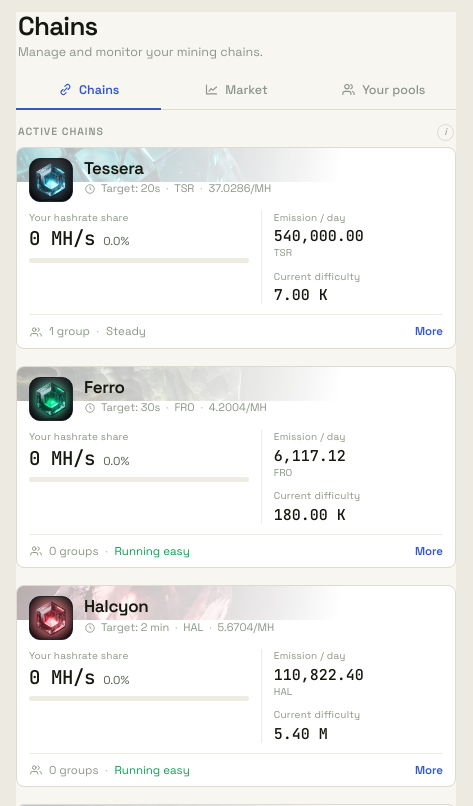
Test: ChainsView › opens the found-a-pool form and reflects the chosen chain
Click the tab with class "segtab" showing "Your pools". click: [383, 90]
box: [311,71,456,110]
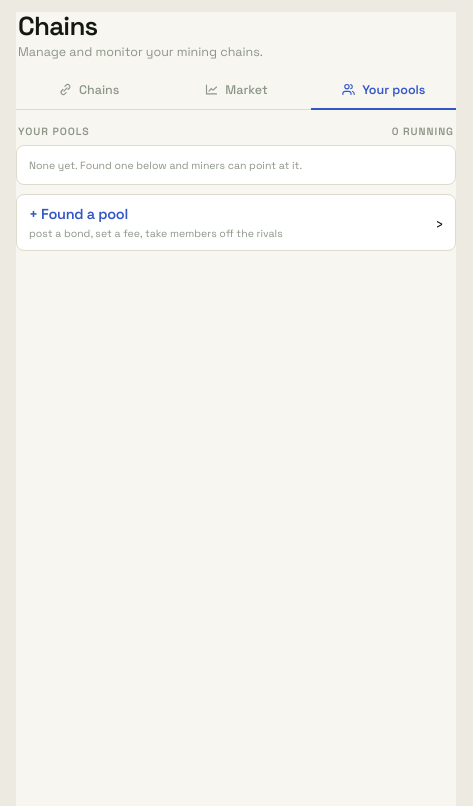
Click the button. click: [78, 214]
box: [17,195,455,250]
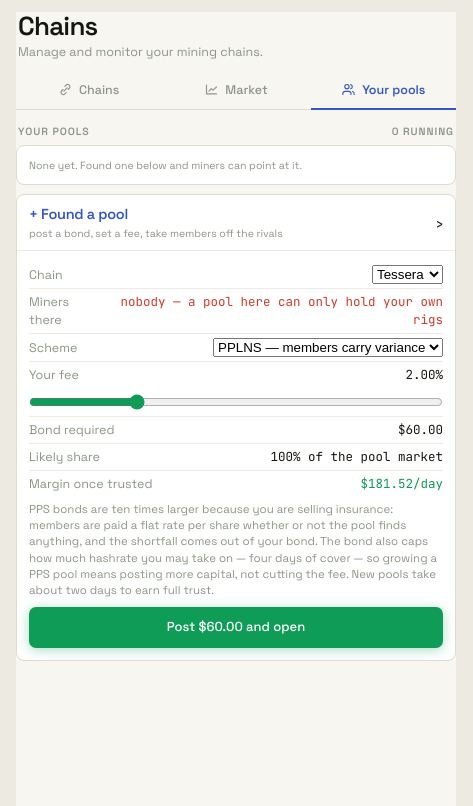
Expected: the text "post" is shown, [29,227,283,240]
Expected: the text "Bond required" is shown, [29,421,114,439]
